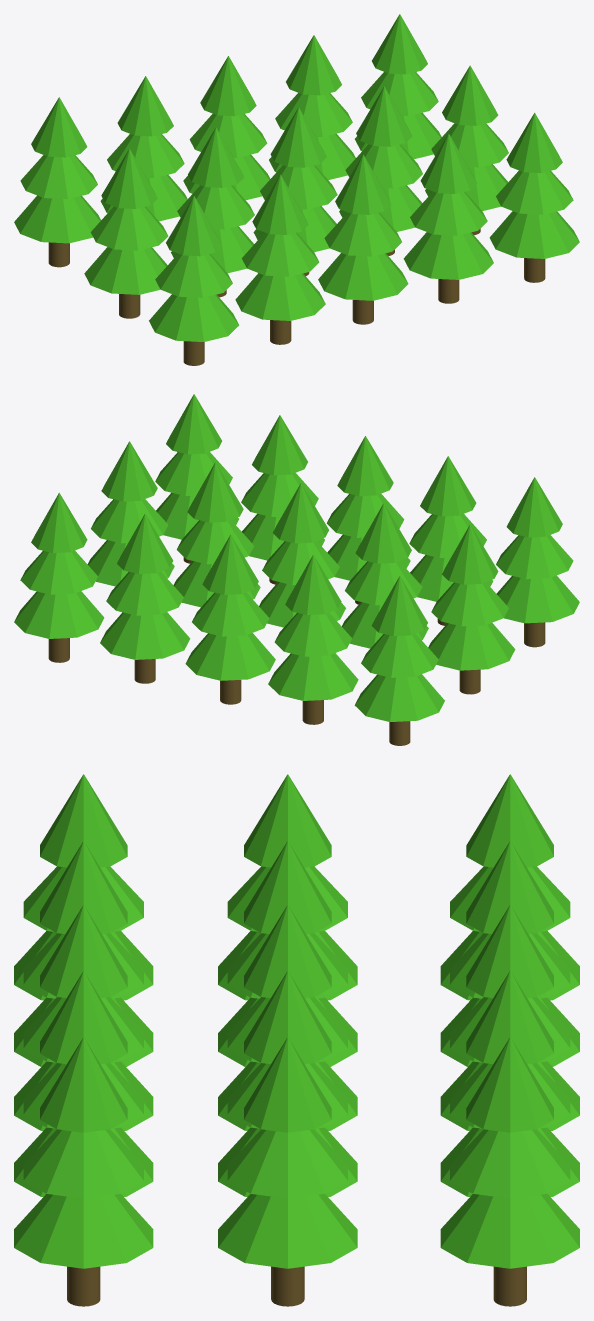
The model's file is pine tree.fbx.
The picture shows the model from 3 angles, top to bottom: view 1: azimuth 30°, elevation 25°; view 2: azimuth 150°, elevation 25°; view 3: azimuth 270°, elevation 25°; orthographic projection. The views are drawn at different scales.
Parts seen in each view (by area): view 1: polySurface12, polySurface14, polySurface16, polySurface15, polySurface13, polySurface10, polySurface4, polySurface9, polySurface8, polySurface7, polySurface3, polySurface6 (+3 smaller); view 2: polySurface7, polySurface11, polySurface9, polySurface10, polySurface8, polySurface4, polySurface15, polySurface3, polySurface6, polySurface5, polySurface14, polySurface13 (+3 smaller); view 3: polySurface13, polySurface8, polySurface6, polySurface10, polySurface15, polySurface4, polySurface12, polySurface7, polySurface5, polySurface1, polySurface11, polySurface16 (+3 smaller).
Boxes of the visible parts, left/top/right/bottom form: polySurface12: left=403, top=134, right=493, bottom=303; polySurface14: left=235, top=174, right=325, bottom=344; polySurface16: left=318, top=154, right=408, bottom=324; polySurface15: left=149, top=196, right=239, bottom=365; polySurface13: left=489, top=112, right=579, bottom=282; polySurface10: left=14, top=97, right=101, bottom=267; polySurface4: left=84, top=148, right=168, bottom=318; polySurface9: left=100, top=76, right=187, bottom=221; polySurface8: left=355, top=14, right=441, bottom=159; polySurface7: left=269, top=35, right=355, bottom=179; polySurface3: left=171, top=128, right=254, bottom=297; polySurface6: left=425, top=65, right=508, bottom=235; polySurface7: left=100, top=514, right=190, bottom=683; polySurface11: left=185, top=534, right=275, bottom=704; polySurface9: left=268, top=554, right=358, bottom=724; polySurface10: left=354, top=576, right=444, bottom=745; polySurface8: left=14, top=492, right=104, bottom=662; polySurface4: left=428, top=524, right=515, bottom=694; polySurface15: left=496, top=477, right=579, bottom=647; polySurface3: left=342, top=503, right=428, bottom=648; polySurface6: left=87, top=441, right=174, bottom=586; polySurface5: left=173, top=462, right=260, bottom=607; polySurface14: left=409, top=456, right=493, bottom=625; polySurface13: left=155, top=394, right=238, bottom=563; polySurface13: left=14, top=1037, right=153, bottom=1306; polySurface8: left=440, top=1037, right=579, bottom=1306; polySurface6: left=218, top=1037, right=357, bottom=1306; polySurface10: left=440, top=774, right=579, bottom=1000; polySurface15: left=14, top=774, right=153, bottom=1000; polySurface4: left=218, top=774, right=357, bottom=1000; polySurface12: left=14, top=971, right=153, bottom=1196; polySurface7: left=440, top=971, right=579, bottom=1196; polySurface5: left=218, top=971, right=357, bottom=1196; polySurface1: left=218, top=905, right=357, bottom=1130; polySurface11: left=440, top=905, right=579, bottom=1130; polySurface16: left=14, top=905, right=153, bottom=1130.
Bounding box in the file's own units: 33.35 × 12.6 × 24.67.
